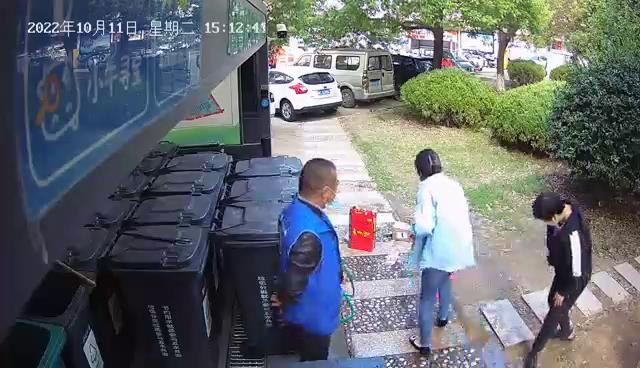person: (521, 190, 593, 368)
worker: (268, 156, 344, 362), (407, 146, 476, 357)
zhizhipin: (347, 204, 378, 252), (391, 220, 412, 240)
